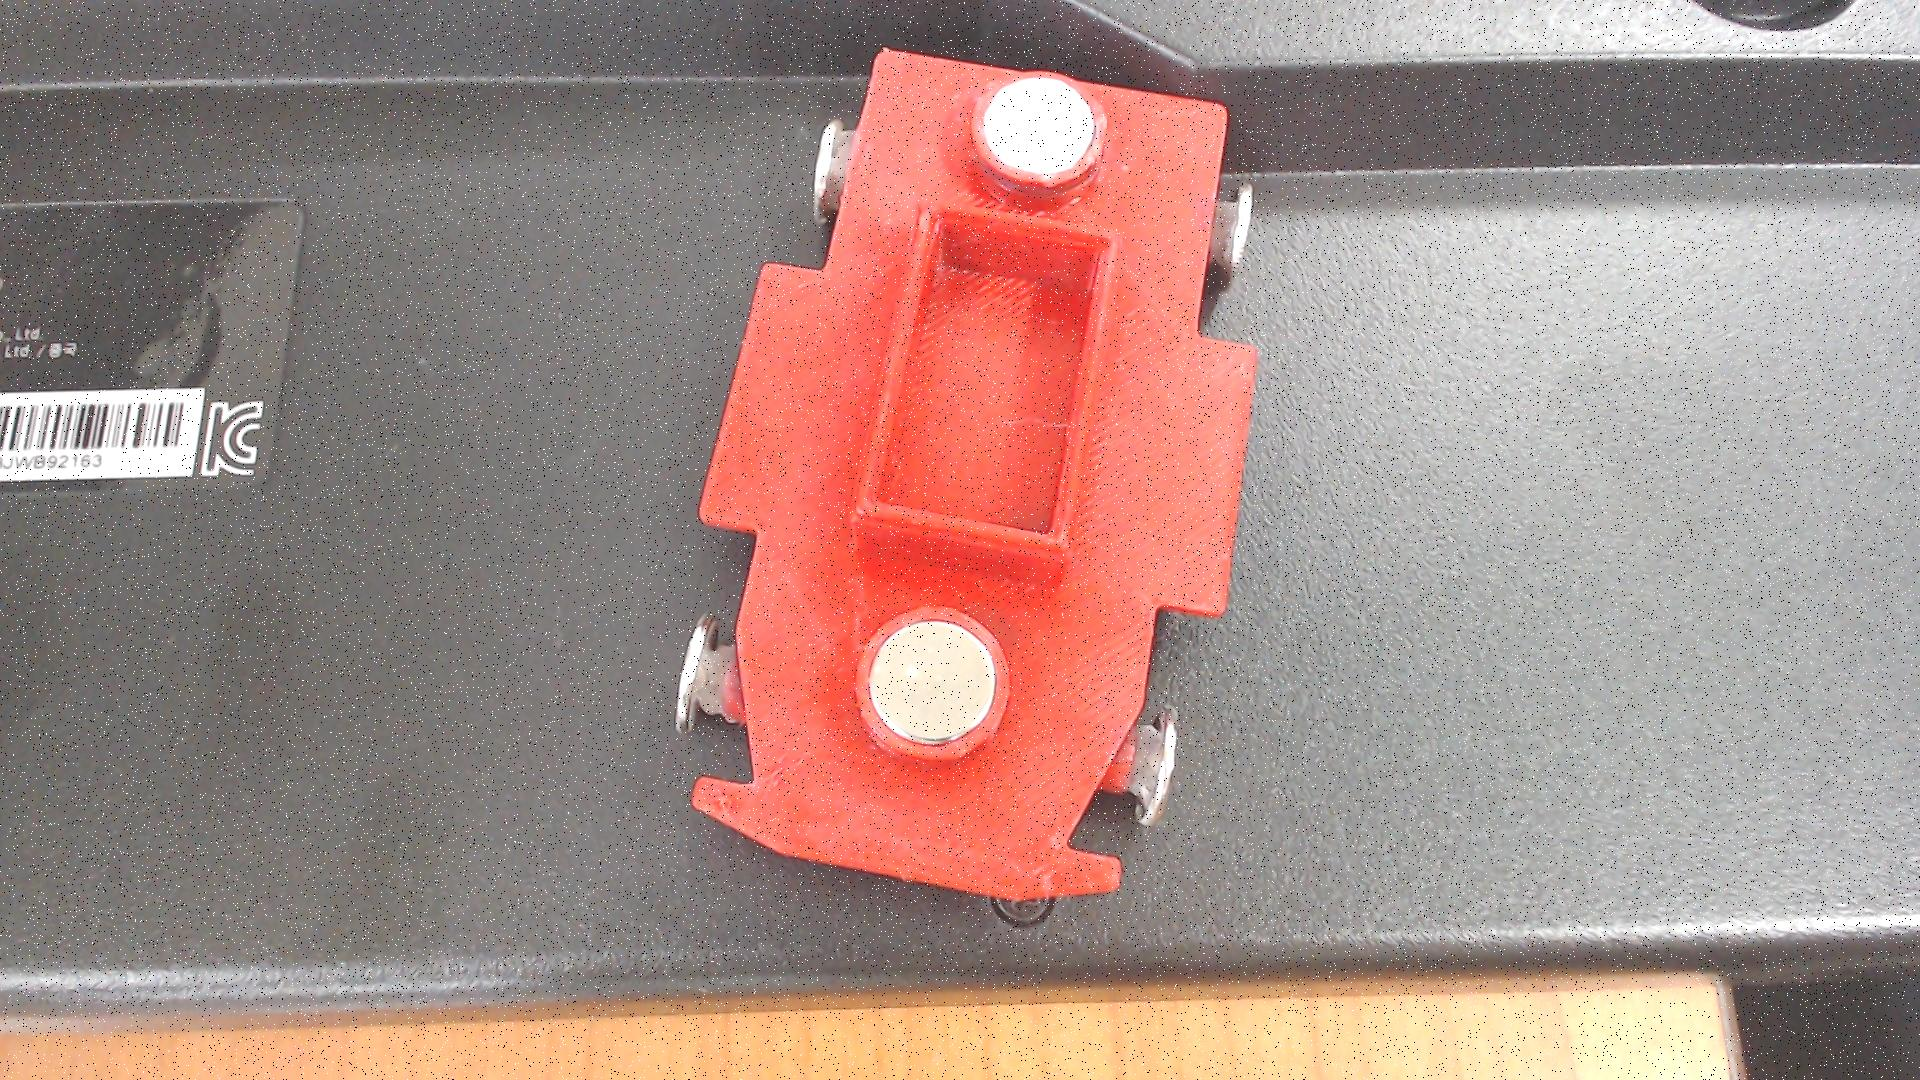lower_ok: (806, 186, 1154, 614)
